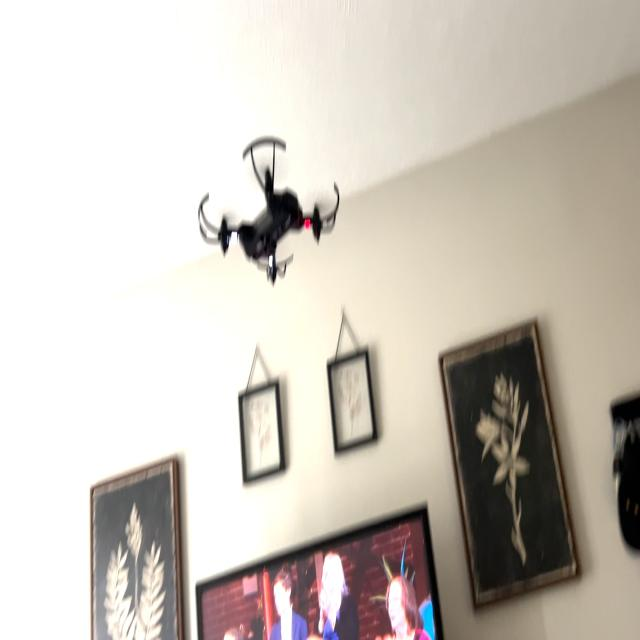drone: (188, 110, 348, 299)
